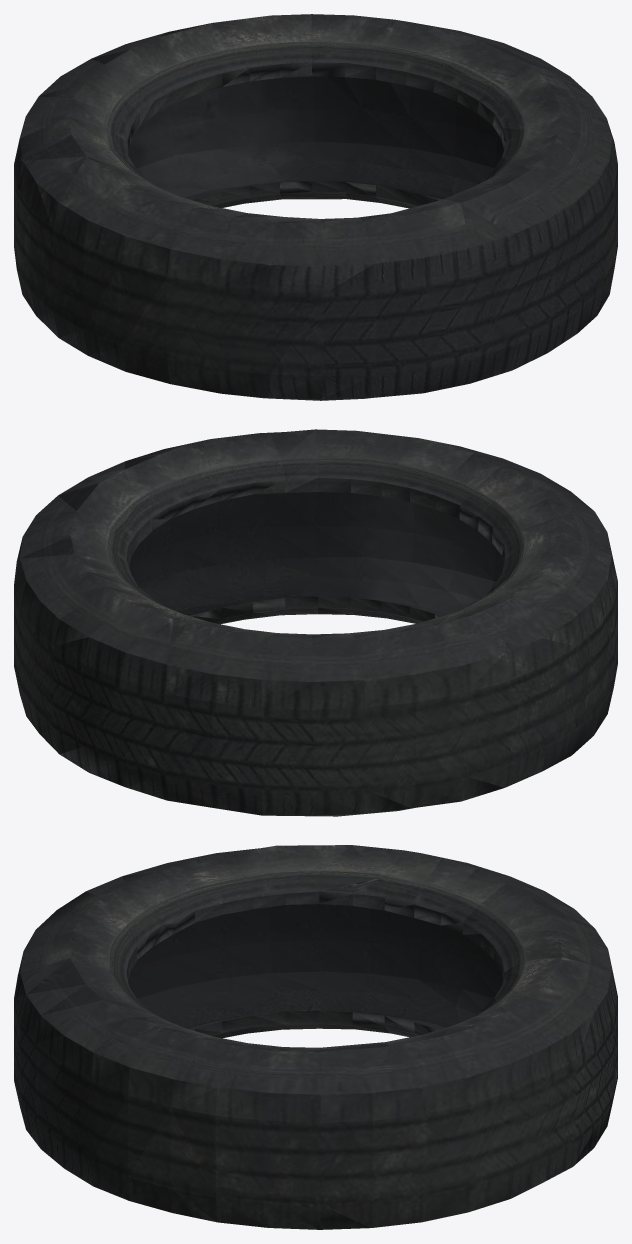
Rendered from tyre.glb.
3 views of the same model, one above another, from view 1: azimuth 30°, elevation 25°; view 2: azimuth 150°, elevation 25°; view 3: azimuth 270°, elevation 25° (orthographic).
Visible parts, largest first — view 1: Prop_tyre; view 2: Prop_tyre; view 3: Prop_tyre.
Boxes of the visible parts, <box> form: Prop_tyre: <box>14,14,617,400</box>; Prop_tyre: <box>14,429,617,816</box>; Prop_tyre: <box>14,845,617,1229</box>.
Size of the model in its own units: 0.7368 by 0.24 by 0.7383.
1 material, 1 textured.
